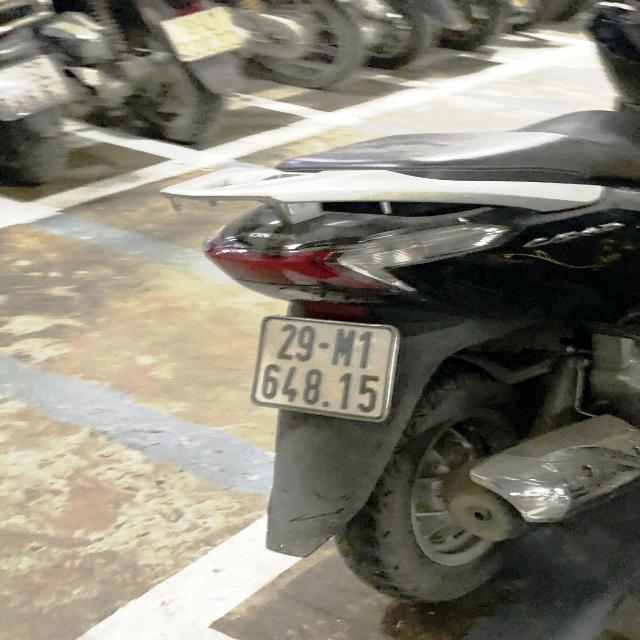license_plate: (240, 314, 405, 423)
